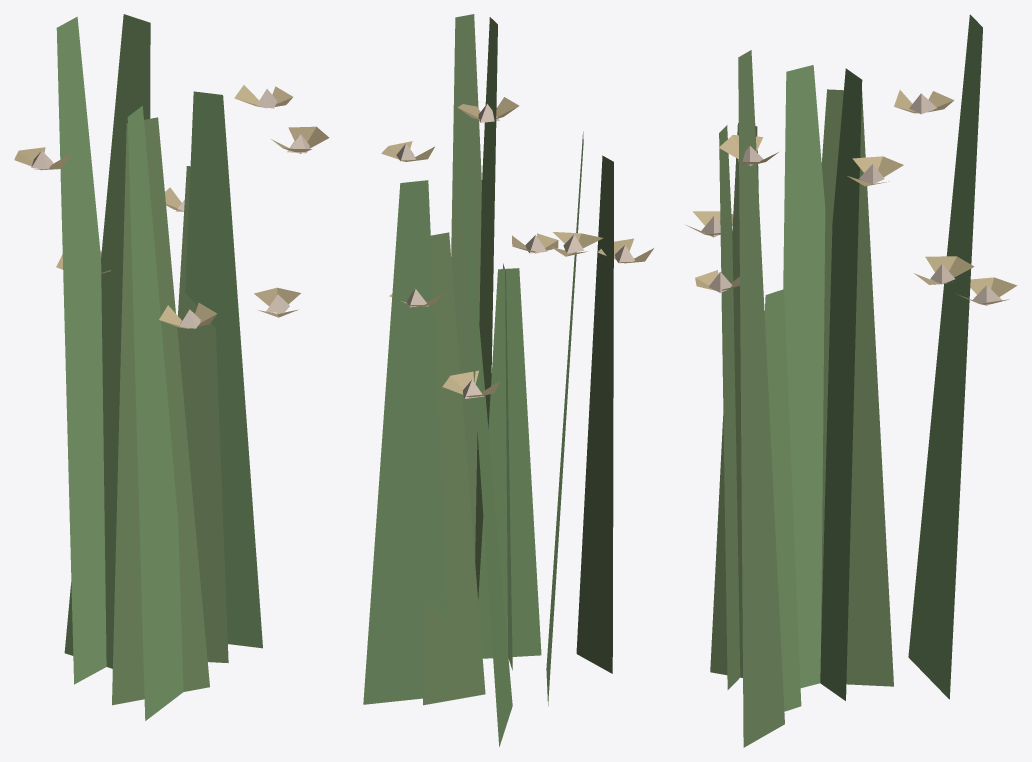
File: cao.luwei@flowering__spring.glb
The picture shows the model from 3 angles, left to right: view 1: azimuth 30°, elevation 25°; view 2: azimuth 150°, elevation 25°; view 3: azimuth 270°, elevation 25°; orthographic projection. The views are drawn at different scales.
Visible parts, largest first — view 1: cao.luwei@flowering__spring; view 2: cao.luwei@flowering__spring; view 3: cao.luwei@flowering__spring.
Part boxes in pixels (box(x1,y1,x2,y2)): cao.luwei@flowering__spring: box(14, 14, 329, 720); cao.luwei@flowering__spring: box(363, 14, 653, 746); cao.luwei@flowering__spring: box(686, 14, 1017, 747).
Bounding box in the file's own units: 0.9454 × 2.41 × 1.08.
